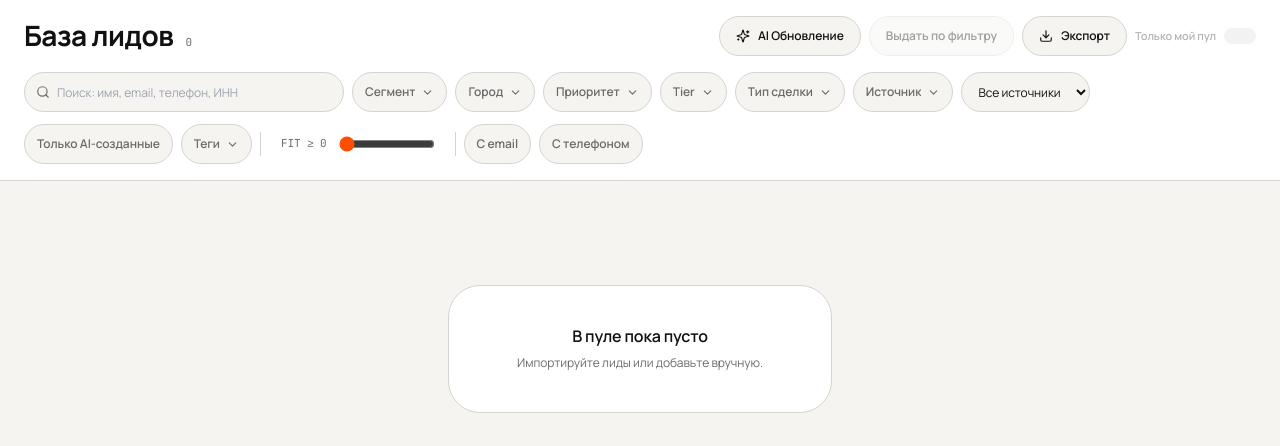
Test: База лидов — выборку определяет сервер › пустой ответ сервера — это «ничего не найдено», а не пустая база
Expected: the text "В пуле пока пусто" is shown, [572, 325, 708, 347]
Click the button "Город". click: [495, 92]
box: [456, 72, 535, 112]
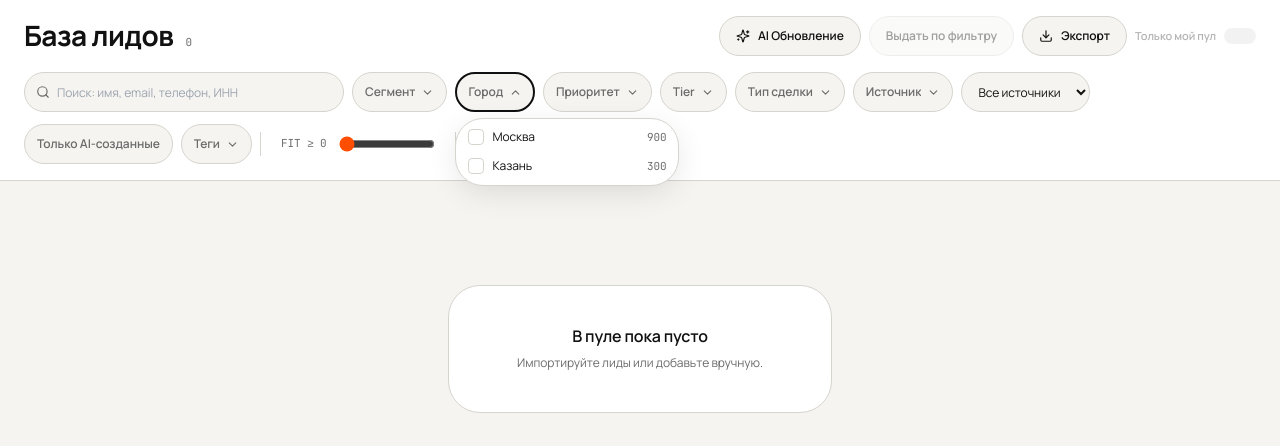
Click the text "Казань". click: [512, 165]
box: [492, 157, 532, 174]
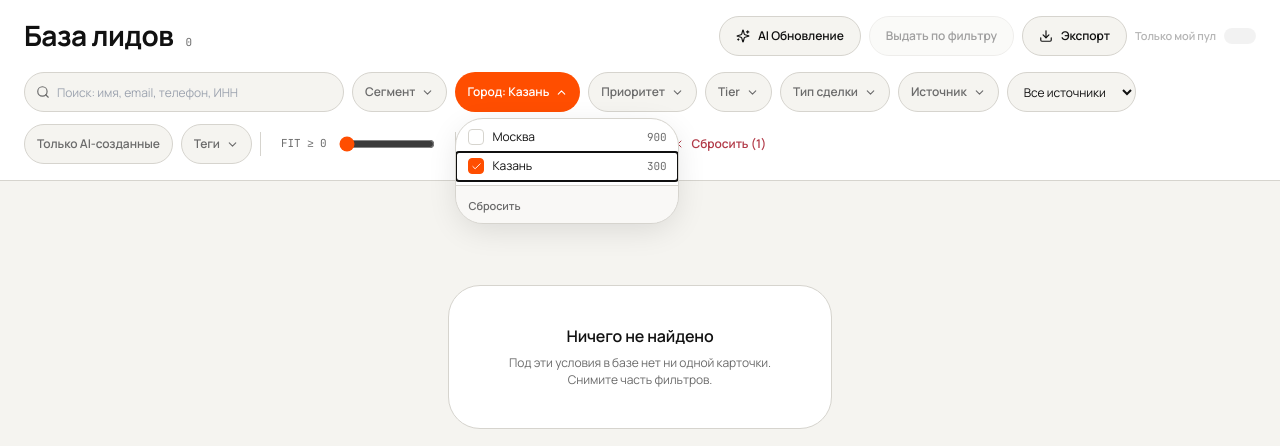
Expected: the text "Ничего не найдено" is shown, [566, 325, 714, 347]
